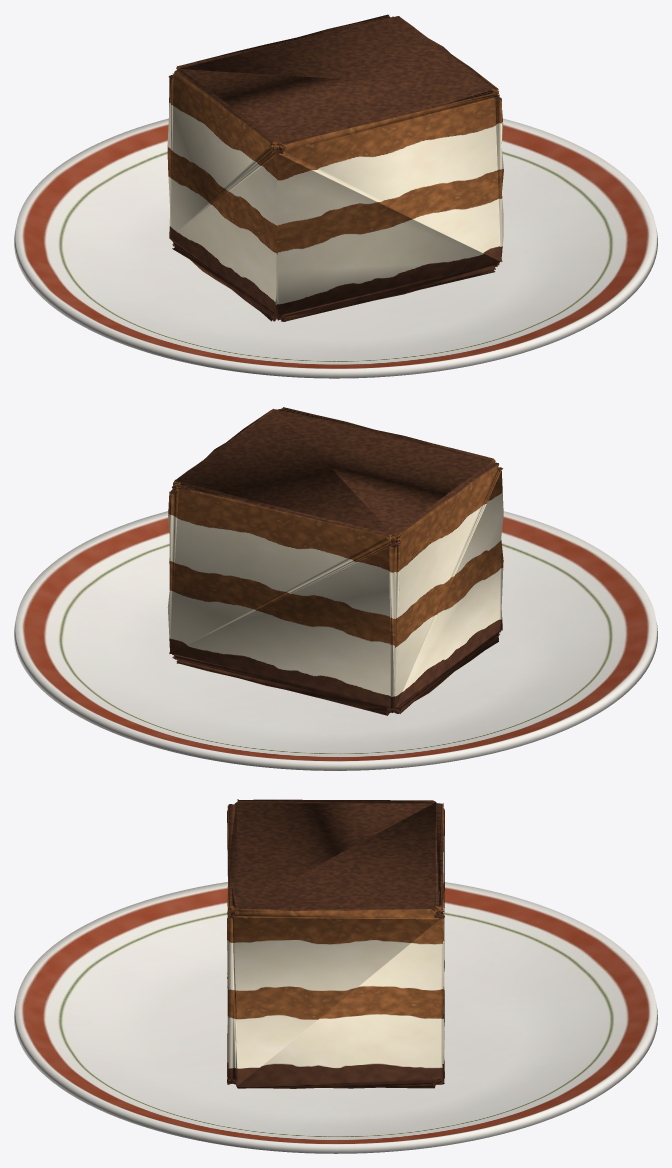
Rendered from tiramisu.glb.
3 views of the same model, one above another, from view 1: azimuth 30°, elevation 25°; view 2: azimuth 150°, elevation 25°; view 3: azimuth 270°, elevation 25° (orthographic).
Parts seen in each view (by area): view 1: Tiramisu, Prato; view 2: Tiramisu, Prato; view 3: Prato, Tiramisu.
Part boxes in pixels (<box>): Tiramisu: <box>167,14,503,321</box>; Prato: <box>14,118,657,378</box>; Tiramisu: <box>167,407,503,715</box>; Prato: <box>14,511,657,770</box>; Prato: <box>14,882,657,1153</box>; Tiramisu: <box>227,799,444,1088</box>.
Size of the model in its own units: 0.21 by 0.0747 by 0.21.
Materials: 3 (3 with a texture image).
